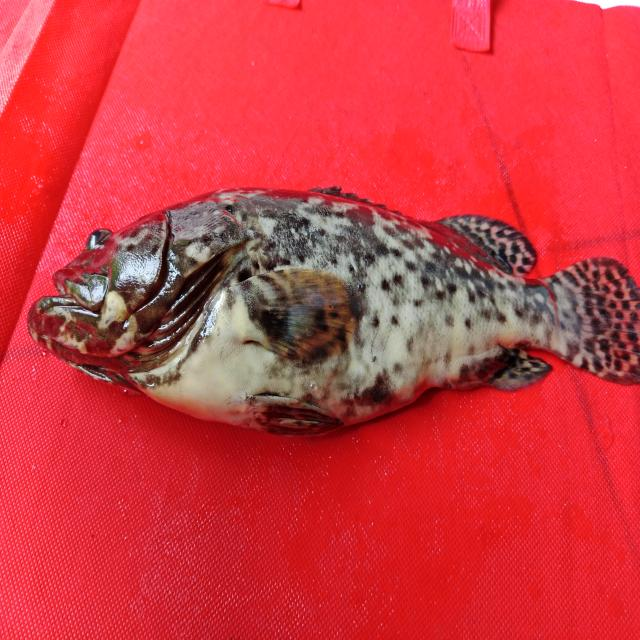ikan: (21, 140, 598, 450)
